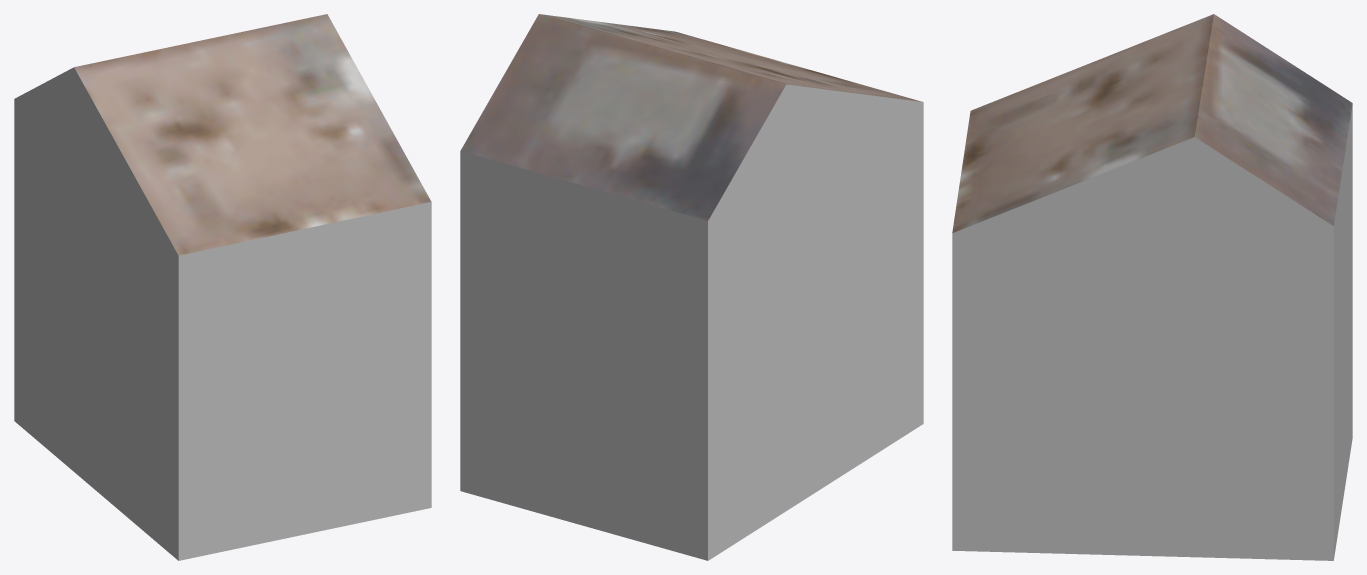
File: DEBW_0010007Tx7A.gltf
The picture shows the model from 3 angles, left to right: view 1: azimuth 30°, elevation 25°; view 2: azimuth 150°, elevation 25°; view 3: azimuth 270°, elevation 25°; orthographic projection. The views are drawn at different scales.
Parts seen in each view (by area): view 1: Z_UP; view 2: Z_UP; view 3: Z_UP.
Part boxes in pixels (left/top/right/bottom): Z_UP: left=14, top=14, right=431, bottom=560; Z_UP: left=460, top=14, right=923, bottom=560; Z_UP: left=952, top=14, right=1352, bottom=560.
Bounding box in the file's own units: 9.99 × 14.65 × 12.65.
Materials: 2 (1 with a texture image).
